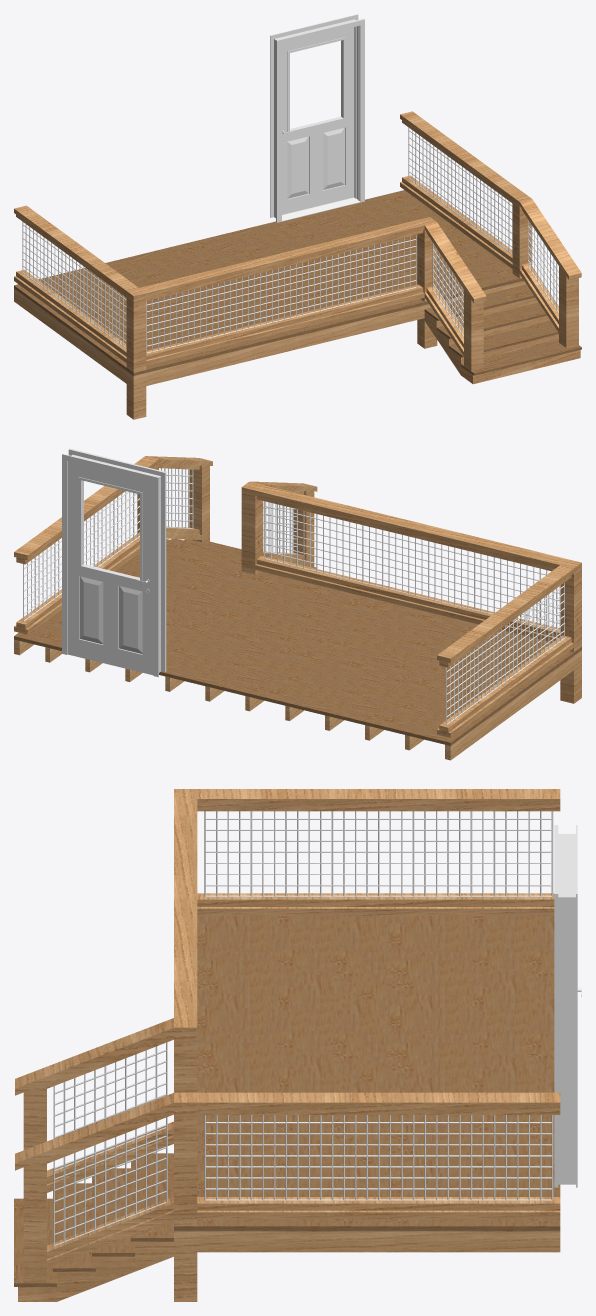
The model's file is ext-door-porch-16.glb.
3 views of the same model, one above another, from view 1: azimuth 30°, elevation 25°; view 2: azimuth 150°, elevation 25°; view 3: azimuth 270°, elevation 25° (orthographic). The views are drawn at different scales.
Parts seen in each view (by area): view 1: stair-wood.001, stair-floorfinish, stair-metal.001, door-white; view 2: stair-floorfinish, stair-wood.001, door-white, stair-metal.001; view 3: stair-floorfinish, stair-wood.001, stair-metal.001, door-white.
Part boxes in pixels (bbox=[...]): stair-wood.001: bbox=[14, 111, 581, 419]; stair-floorfinish: bbox=[14, 190, 581, 375]; stair-metal.001: bbox=[22, 127, 558, 353]; door-white: bbox=[270, 14, 364, 222]; stair-floorfinish: bbox=[14, 539, 581, 745]; stair-wood.001: bbox=[14, 456, 581, 760]; door-white: bbox=[62, 448, 166, 677]; stair-metal.001: bbox=[23, 468, 564, 724]; stair-floorfinish: bbox=[14, 915, 560, 1286]; stair-wood.001: bbox=[15, 789, 560, 1301]; stair-metal.001: bbox=[53, 811, 553, 1246]; door-white: bbox=[554, 825, 577, 1187].
Size of the model in its own units: 4.83 by 2.65 by 3.7.
Materials: 6 (2 with a texture image).
